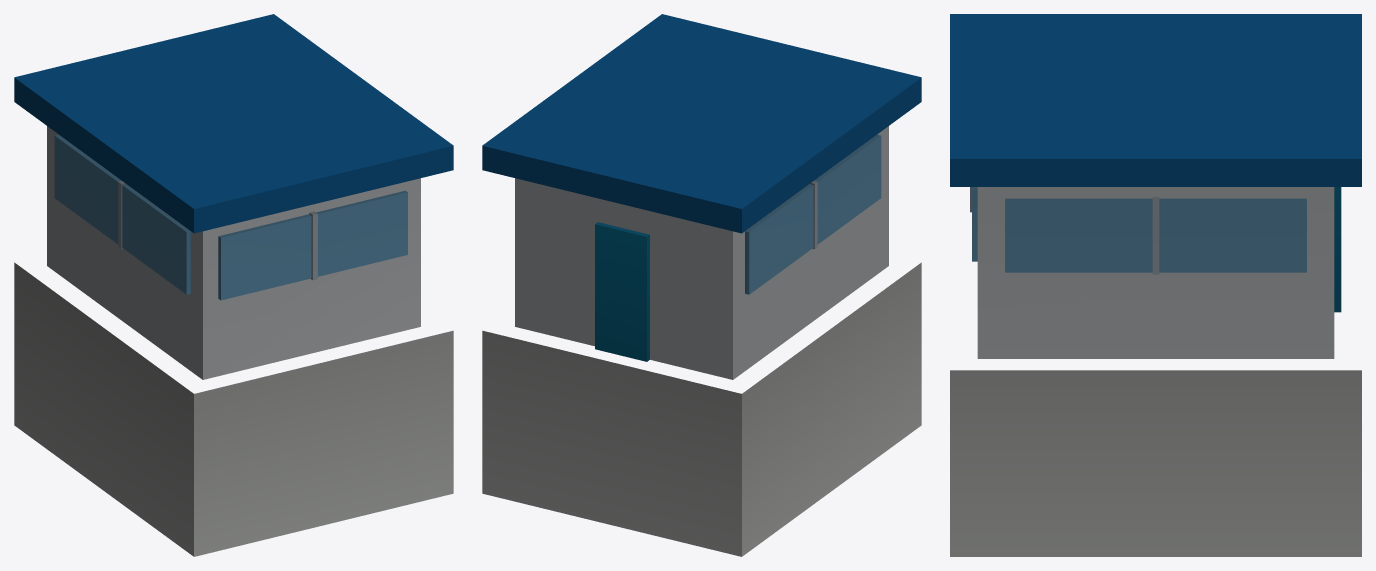
Rendered from guard-hut.glb.
3 renders of one model, left to right at view 1: azimuth 30°, elevation 25°; view 2: azimuth 150°, elevation 25°; view 3: azimuth 270°, elevation 25°, orthographic. The views are drawn at different scales.
Parts seen in each view (by area): view 1: guard-hut; view 2: guard-hut; view 3: guard-hut.
Boxes of the visible parts, box(x1,y1,x2,y2) form: guard-hut: box(14, 14, 453, 556); guard-hut: box(482, 14, 921, 556); guard-hut: box(950, 14, 1361, 556).
Size of the model in its own units: 5 by 6.4 by 6.
